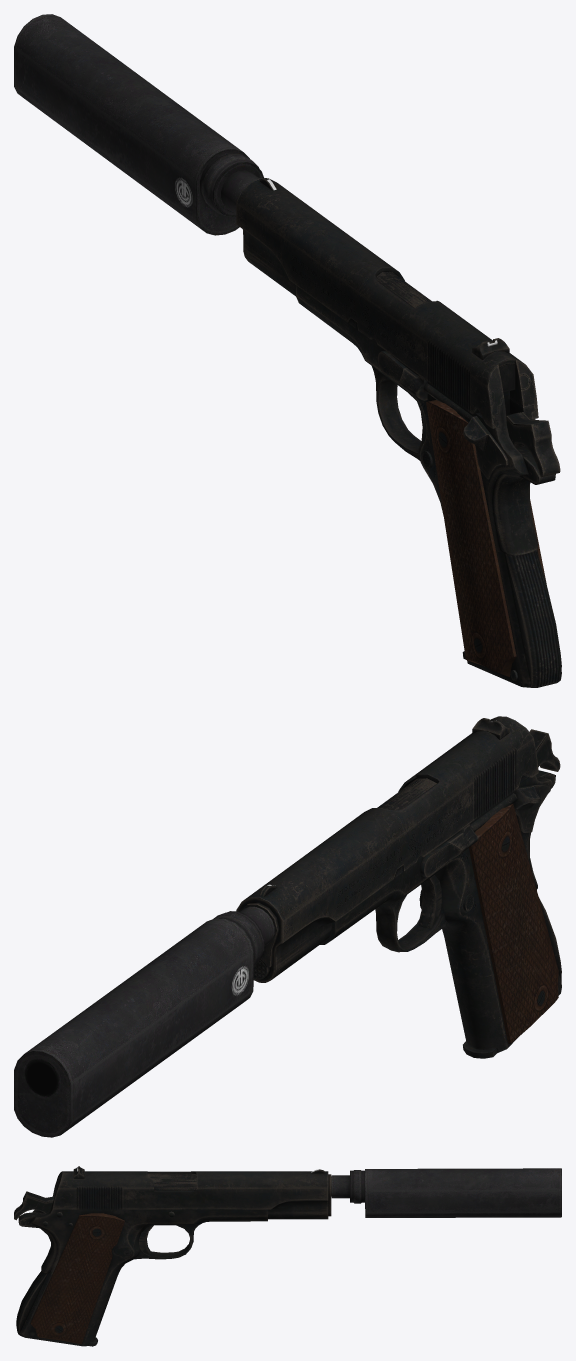
Rendered from Colt_M1911_World.fbx.
3 renders of one model, top to bottom at view 1: azimuth 30°, elevation 25°; view 2: azimuth 150°, elevation 25°; view 3: azimuth 270°, elevation 25°, orthographic. The views are drawn at different scales.
Visible parts, largest first — view 1: body, silencer 45acp; view 2: body, silencer 45acp; view 3: body, silencer 45acp.
Boxes of the visible parts, box(x1,y1,x2,y2) form: body: box(236, 178, 561, 687); silencer 45acp: box(14, 14, 263, 235); body: box(236, 716, 561, 1058); silencer 45acp: box(14, 906, 274, 1137); body: box(14, 1166, 331, 1346); silencer 45acp: box(331, 1168, 561, 1217).
Bounding box in the file's own units: 4.24 × 19.18 × 54.46.
